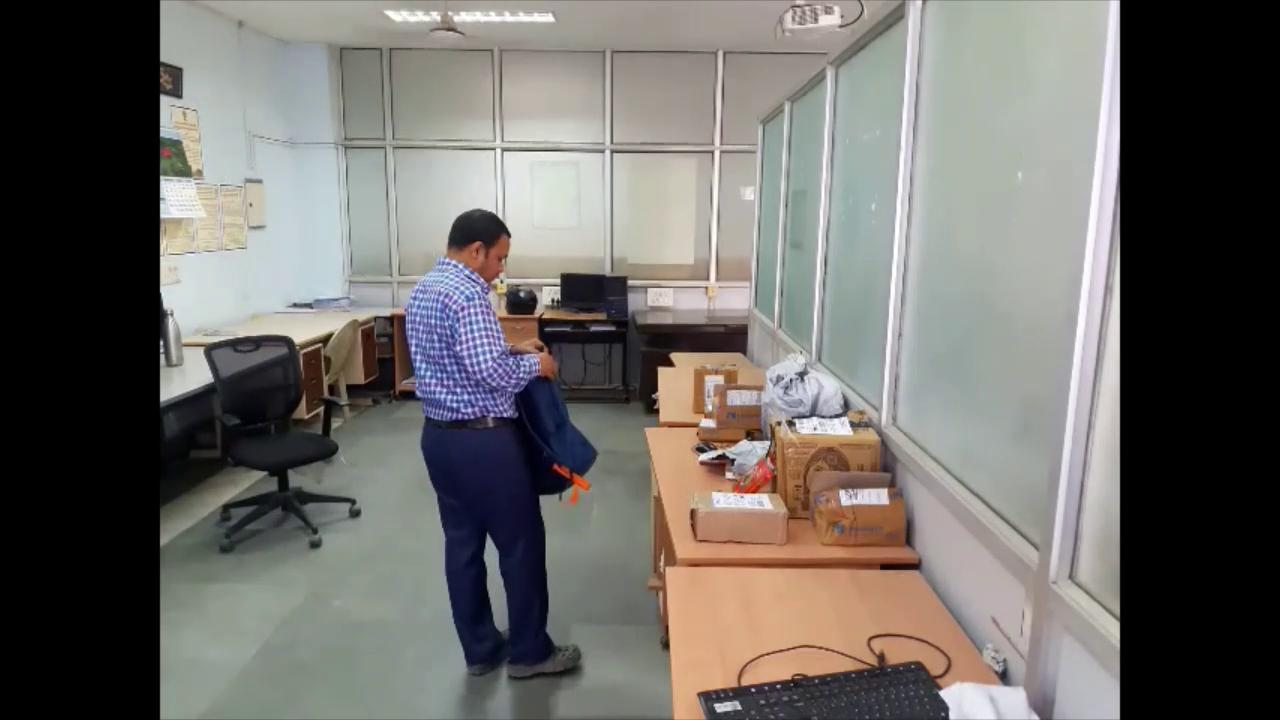shoplifting: (397, 192, 601, 715)
